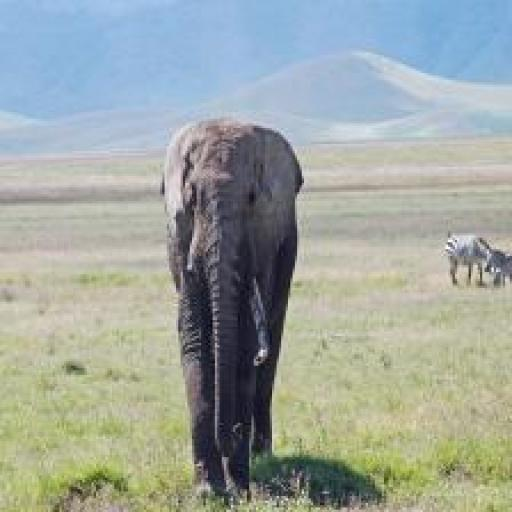Elephant: (160, 117, 303, 504)
